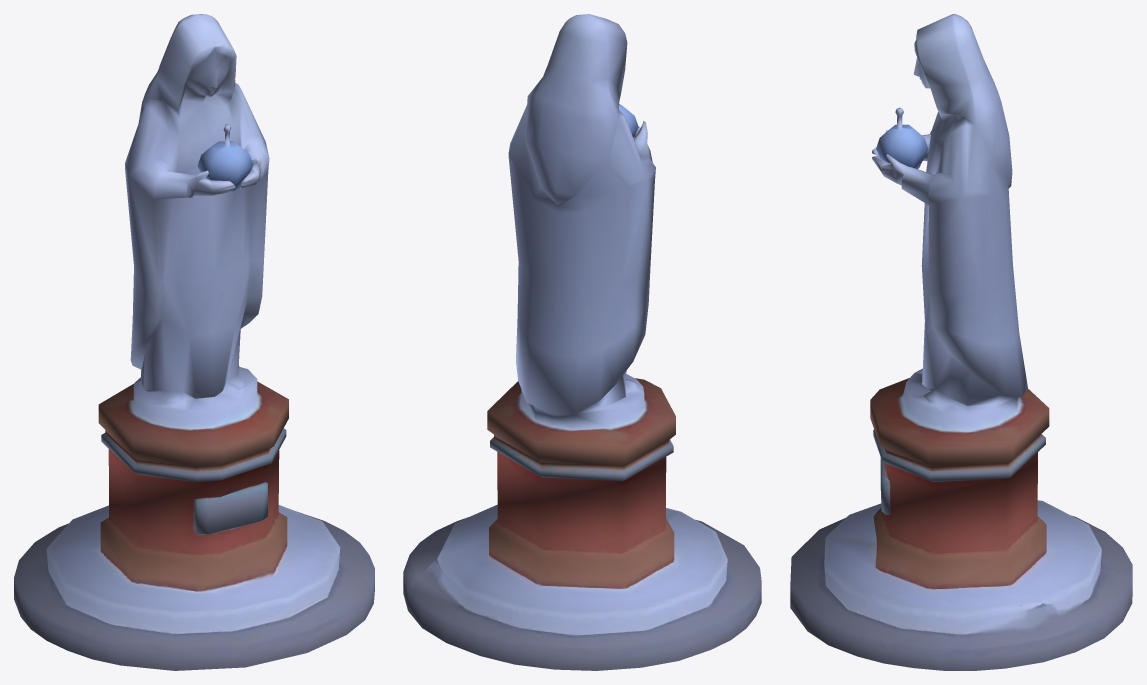
The model's file is nha-tho-duc-ba-statue.glb.
3 renders of one model, left to right at view 1: azimuth 30°, elevation 25°; view 2: azimuth 150°, elevation 25°; view 3: azimuth 270°, elevation 25°, orthographic.
Visible parts, largest first — view 1: tripo_node_9acfbdc0-6b7c-4b9e-b78d-401b94da8fa2; view 2: tripo_node_9acfbdc0-6b7c-4b9e-b78d-401b94da8fa2; view 3: tripo_node_9acfbdc0-6b7c-4b9e-b78d-401b94da8fa2.
Boxes of the visible parts, x1,y1,x2,y2 form: tripo_node_9acfbdc0-6b7c-4b9e-b78d-401b94da8fa2: (14, 14, 374, 670); tripo_node_9acfbdc0-6b7c-4b9e-b78d-401b94da8fa2: (403, 14, 761, 670); tripo_node_9acfbdc0-6b7c-4b9e-b78d-401b94da8fa2: (790, 14, 1132, 670).
Bounding box in the file's own units: 0.561 × 0.9995 × 0.5366.
Materials: 1 (1 with a texture image).
